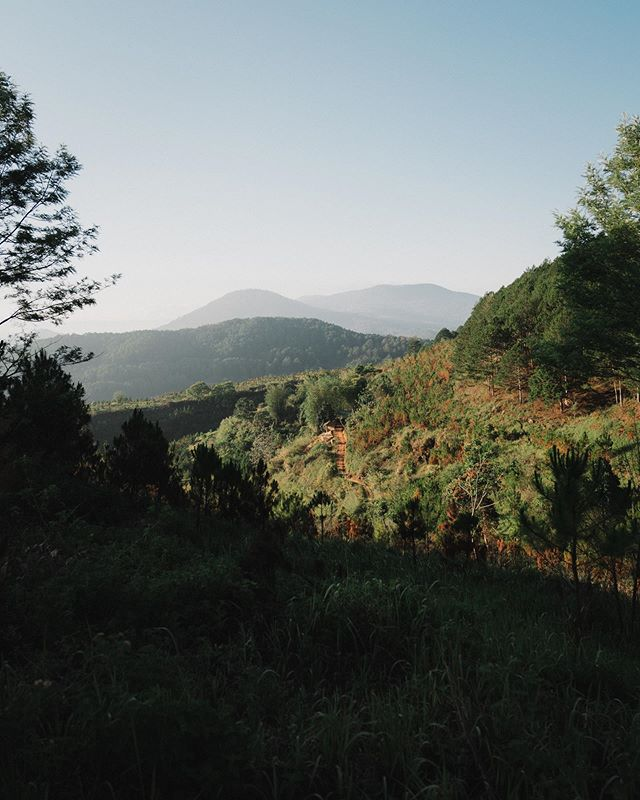mountain: (182, 252, 470, 336)
sky: (38, 1, 621, 310)
vegetation: (1, 374, 640, 800)
